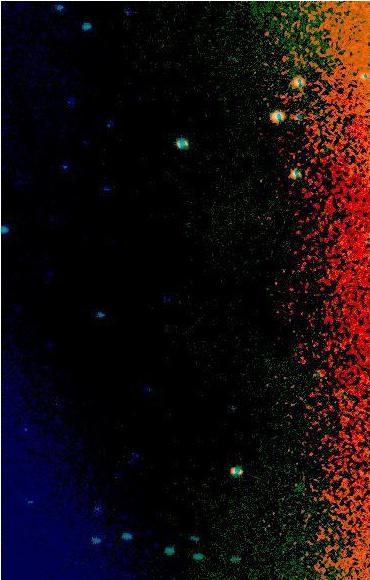star: (183, 423, 213, 453)
